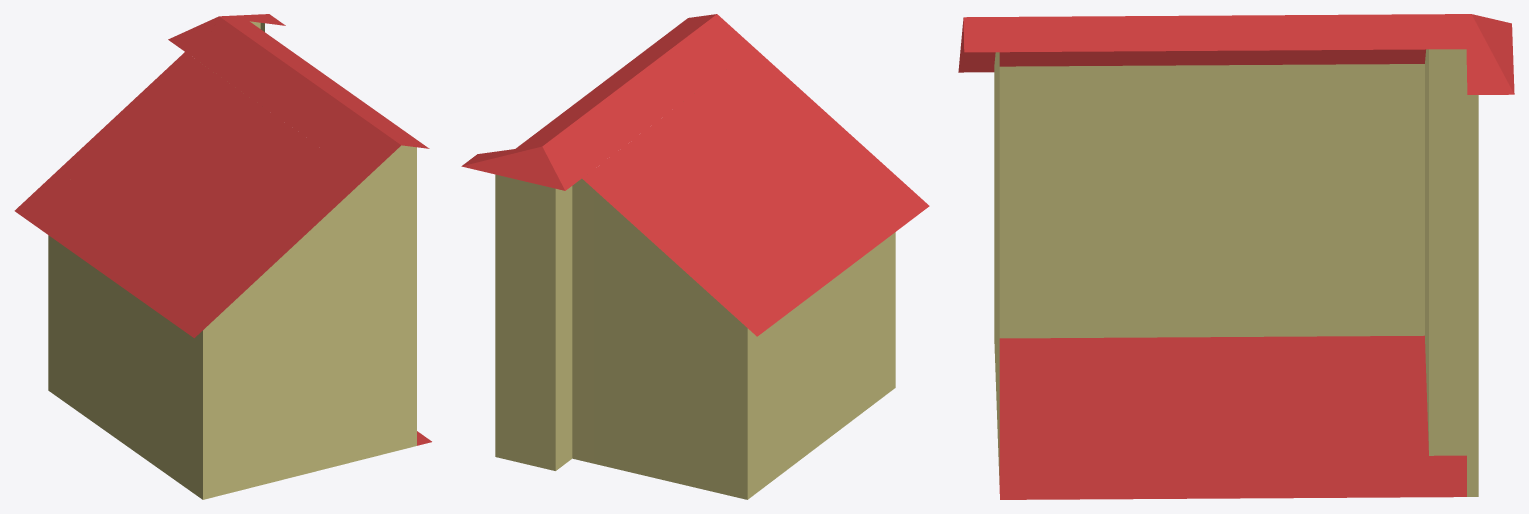
The picture shows the model from 3 angles, left to right: view 1: azimuth 30°, elevation 25°; view 2: azimuth 150°, elevation 25°; view 3: azimuth 270°, elevation 25°; orthographic projection. The views are drawn at different scales.
Bounding box in the file's own units: 9.6 × 11.79 × 10.58.
